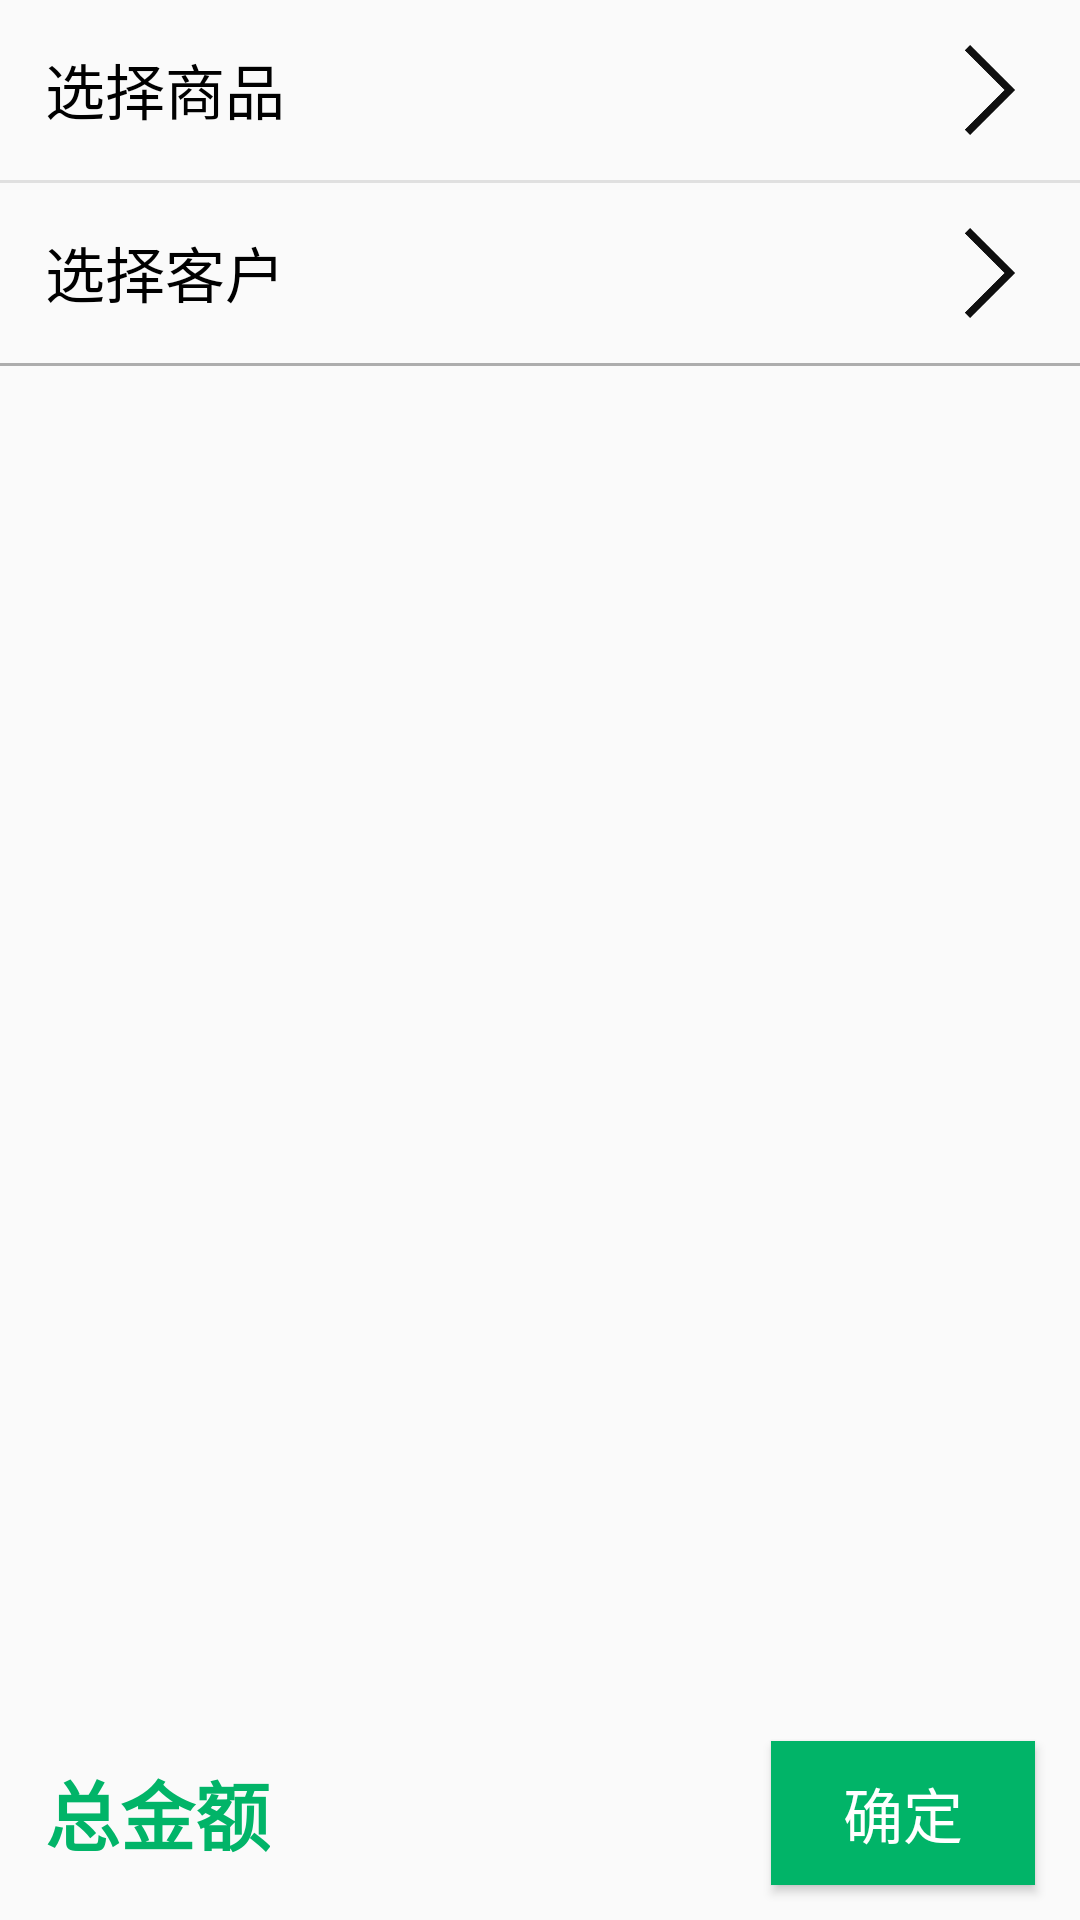

Where to tap for icons on this 1080×1920 app screen, as (x=x, y=y):
next: (x=990, y=90), (x=990, y=273)
